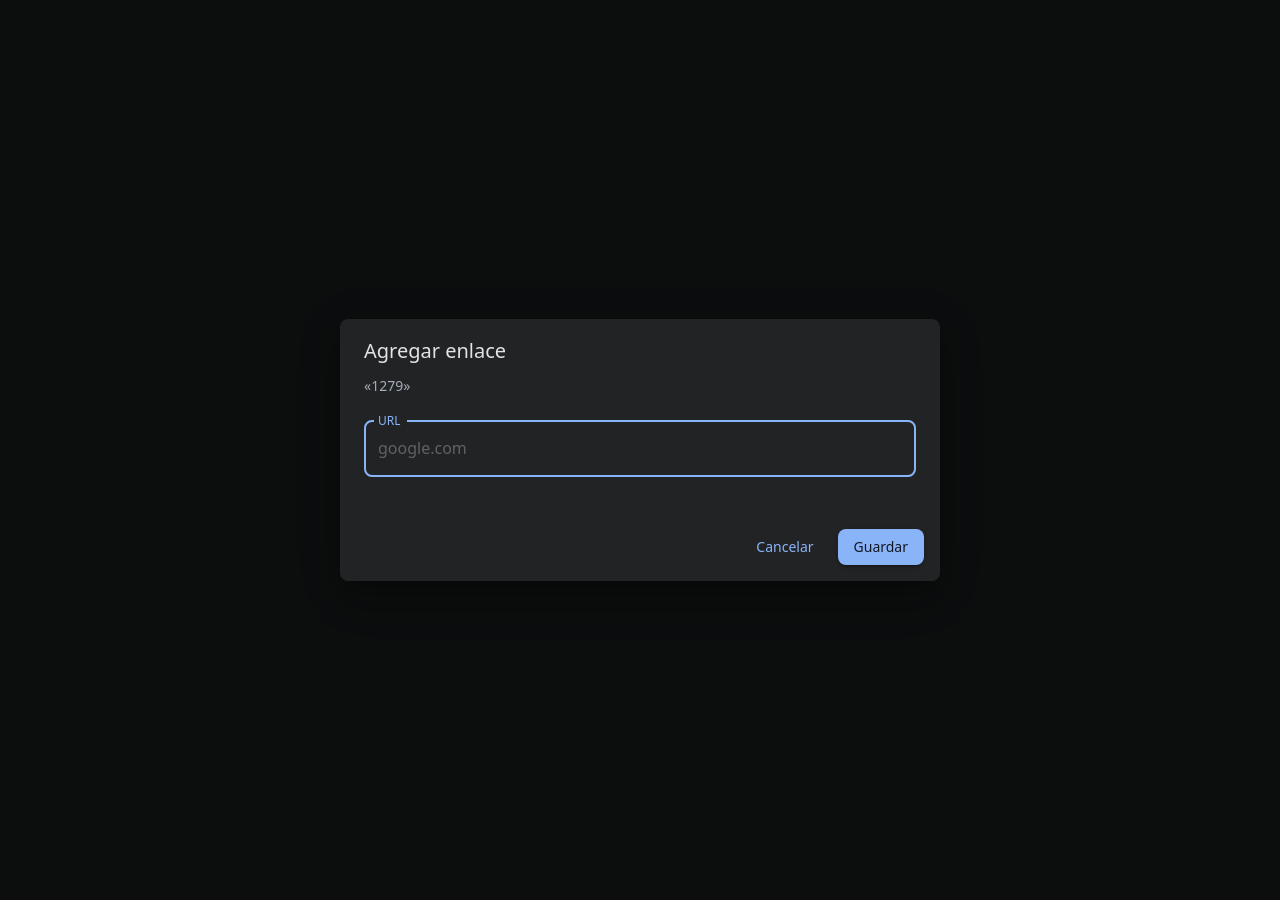
LinkDialog › rechaza un dominio inválido junto al campo sin guardar
Step 1. Type "mi_sitio.test" into the field labelled "URL" → (640, 449), box [364,421,916,477]
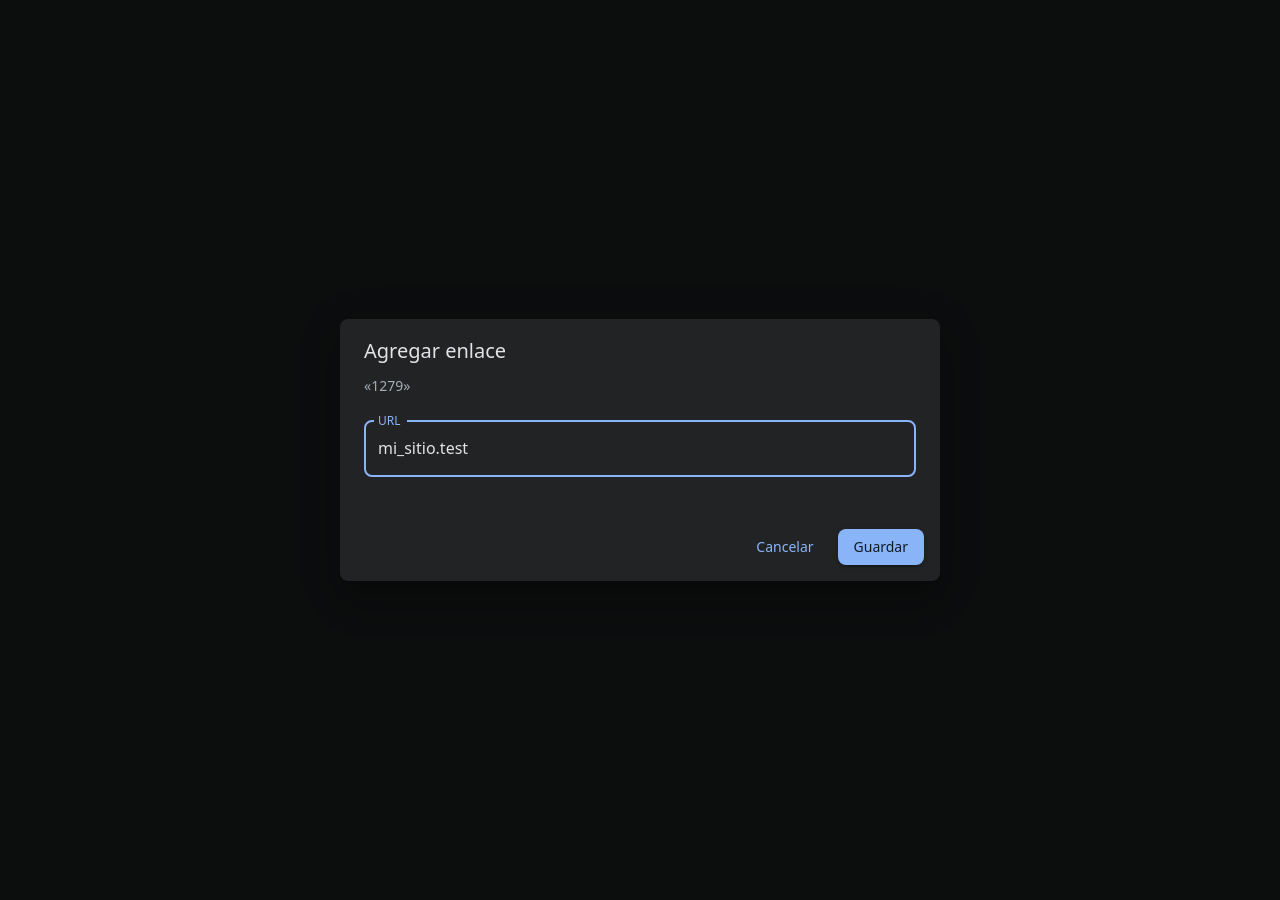
Step 2. Click the button "Guardar" → (881, 547), box [838,529,924,565]
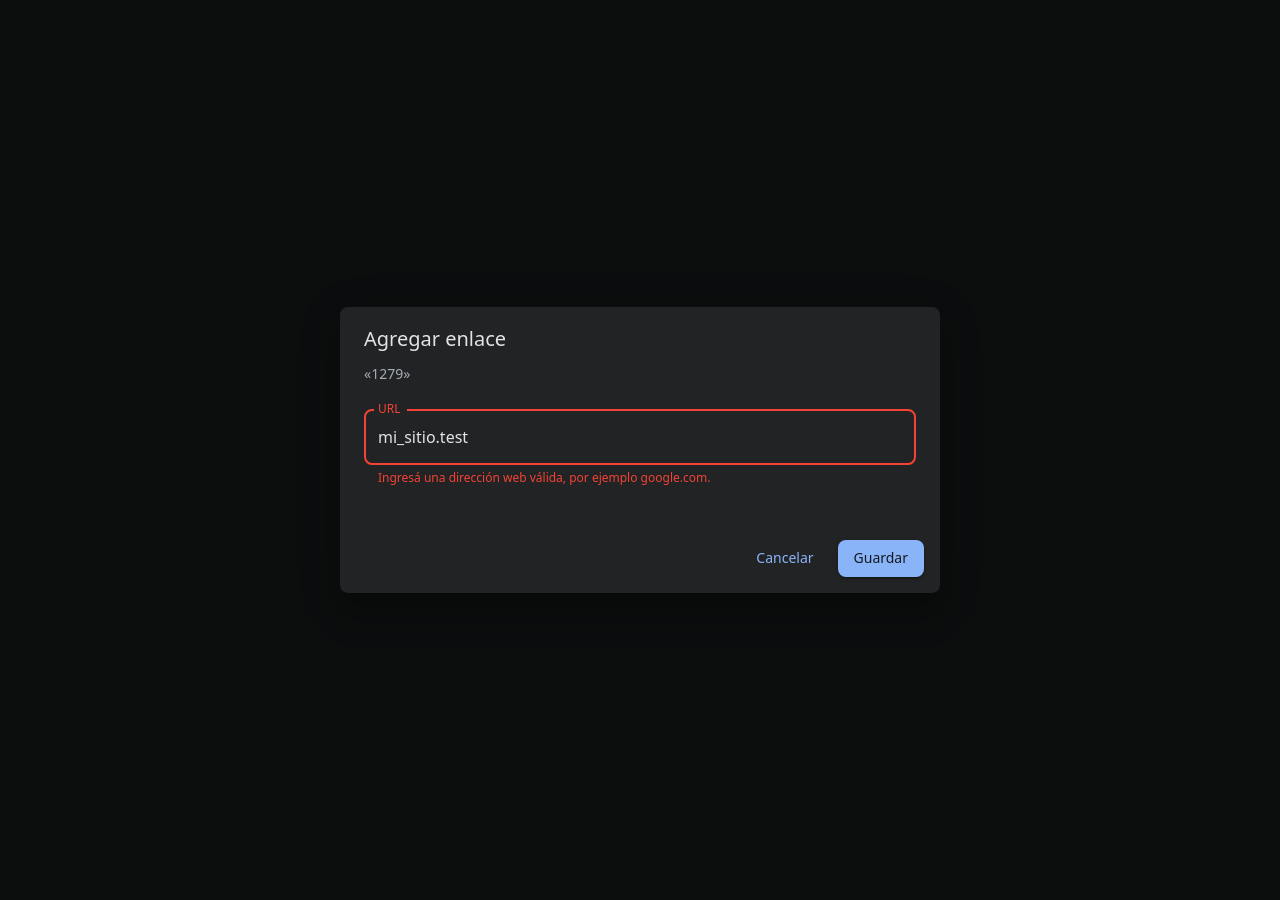
Check: the text "Ingresá una dirección web válida, por ejemplo google.com." is shown, box [378,470,710,486]
